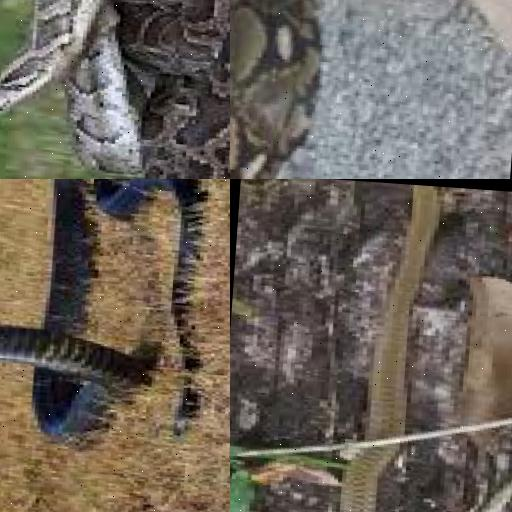2: (230, 179, 512, 512)
3: (230, 0, 369, 179)
5: (0, 263, 154, 438)
snake: (0, 0, 230, 179)
